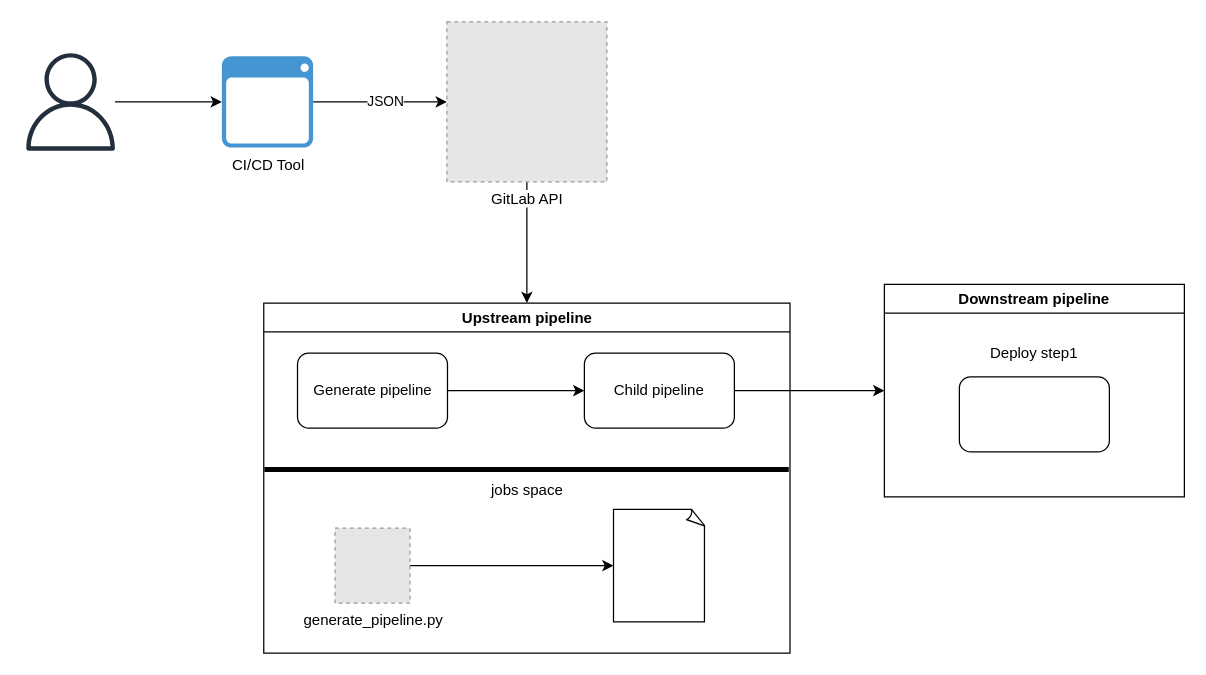
Some shapes in this 1206 by 675 pixel diagram are drawn without their labels. Grey dashed boxes stand in for pictures. The shapes that lost their labels are listed below. From the top down, each one's centre as x and y in pixels, then its label:
At (70,101): "Developer".
At (1033,414): "Service 1".
At (658,565): "dynamic-pipeline.yml".
